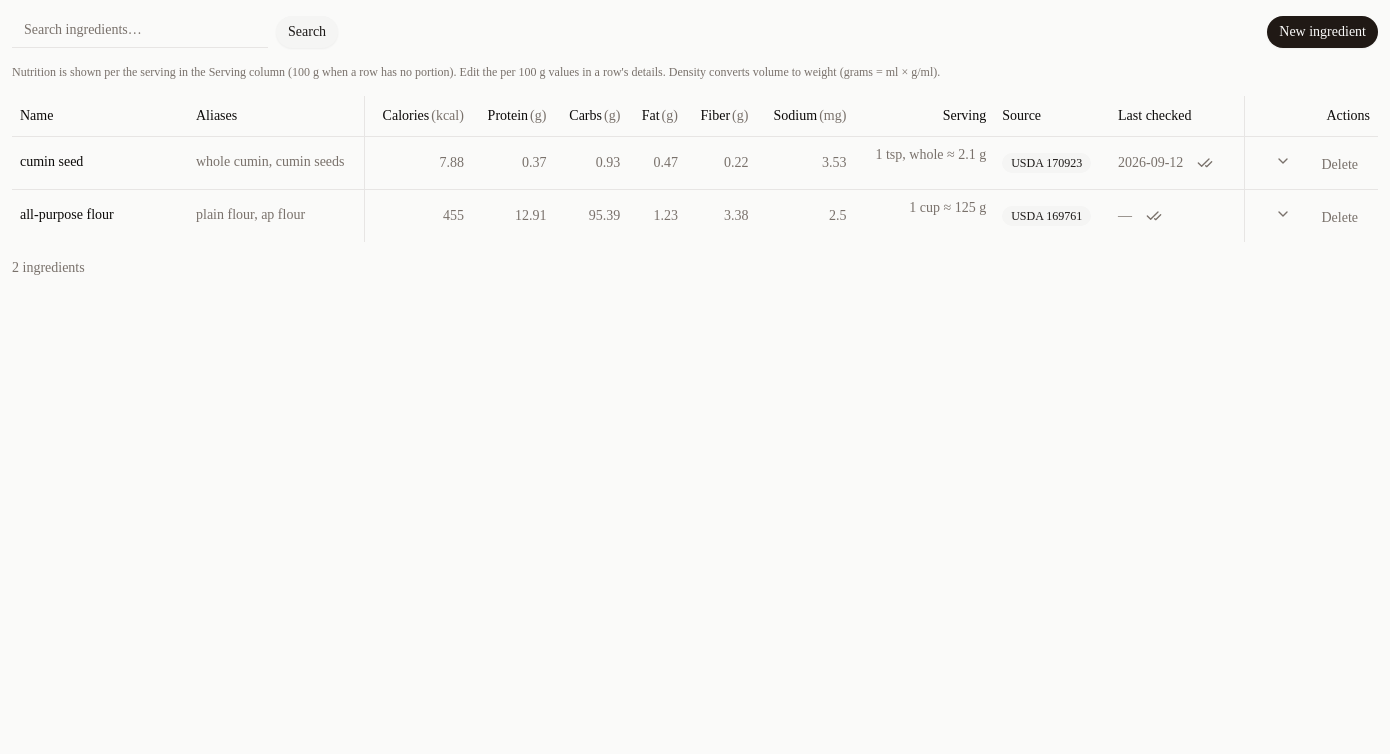
Test case: IngredientsTable › shows the primary nutrition as read-only, portion-scaled text; edit lives in the drawer
Expected: the text "375" is not shown
// Expanding reveals the per-100 g edit inputs for every nutrient.
Click the button named "Details for cumin seed".
click(1284, 160)  # box [1266,144,1302,176]
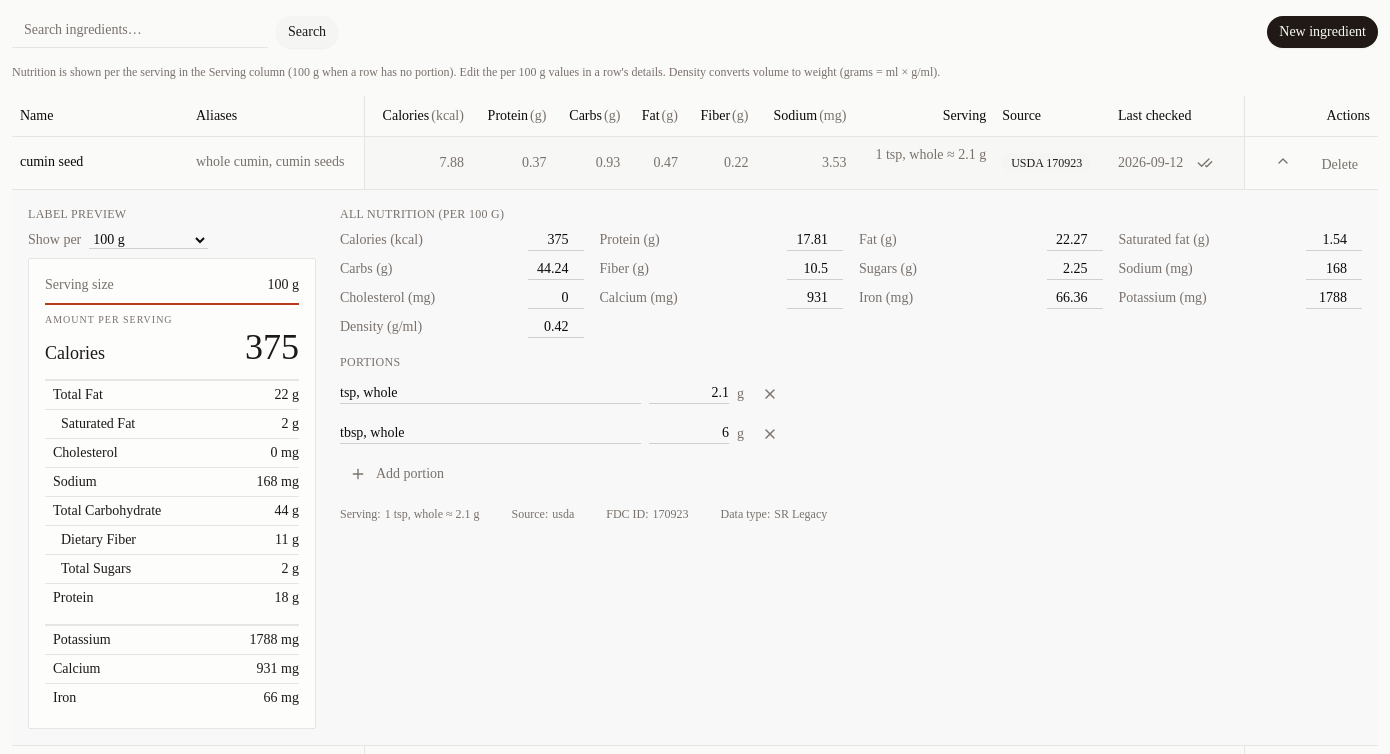
Expected: the number field named "Calories (kcal) for cumin seed" holds "375", [528,230,584,250]
